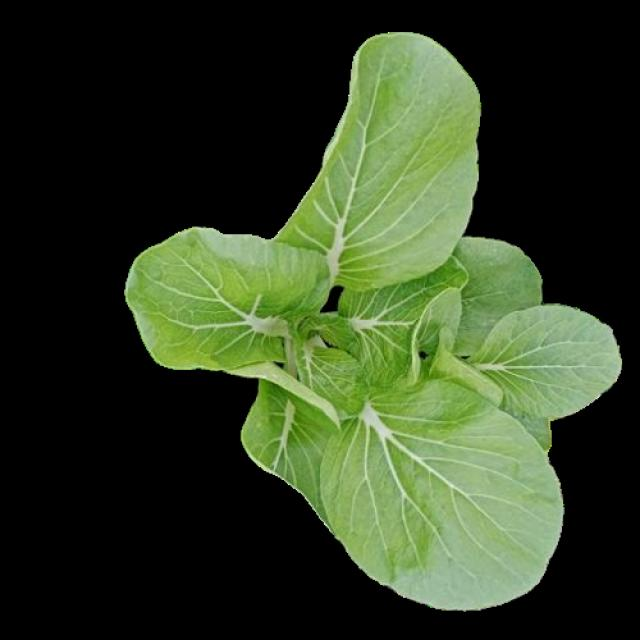healthy: (134, 49, 618, 604)
mature: (129, 34, 621, 606)
